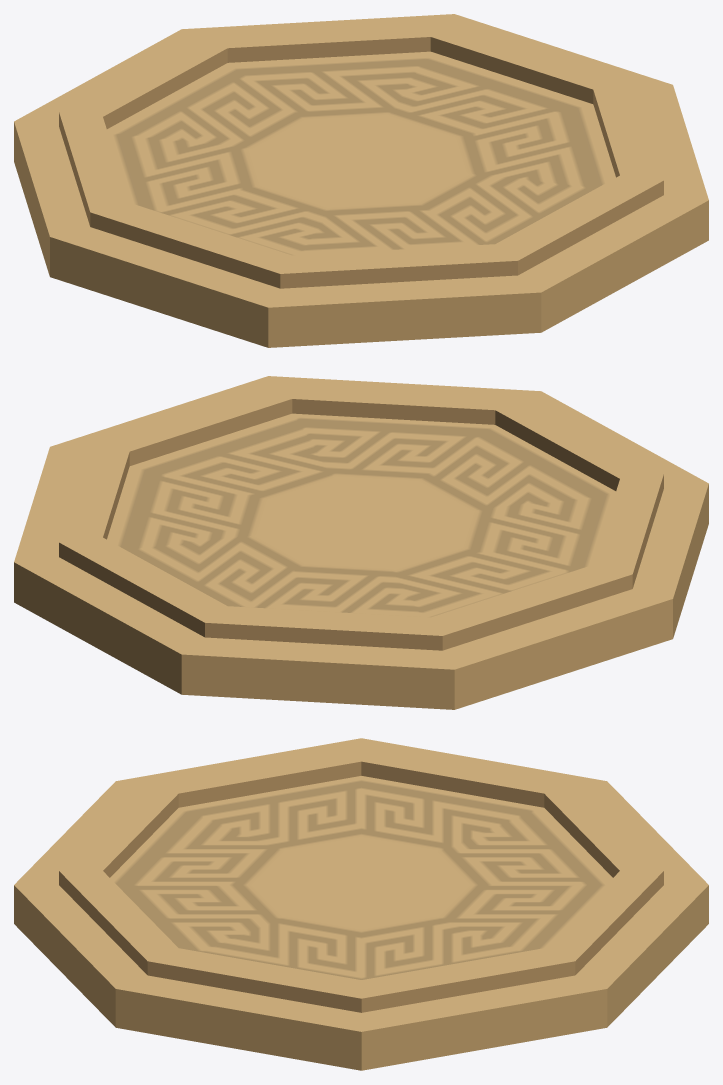
The model's file is ST_Env_Alter_03.fbx.
3 views of the same model, one above another, from view 1: azimuth 30°, elevation 25°; view 2: azimuth 150°, elevation 25°; view 3: azimuth 270°, elevation 25° (orthographic). The views are drawn at different scales.
Visible parts, largest first — view 1: ST_Env_Alter_03; view 2: ST_Env_Alter_03; view 3: ST_Env_Alter_03.
Boxes of the visible parts, x1=… form: ST_Env_Alter_03: x1=14, y1=14, x2=708, y2=347; ST_Env_Alter_03: x1=14, y1=376, x2=708, y2=709; ST_Env_Alter_03: x1=14, y1=738, x2=708, y2=1070.
Size of the model in its own units: 6.64 by 0.5594 by 6.64.
